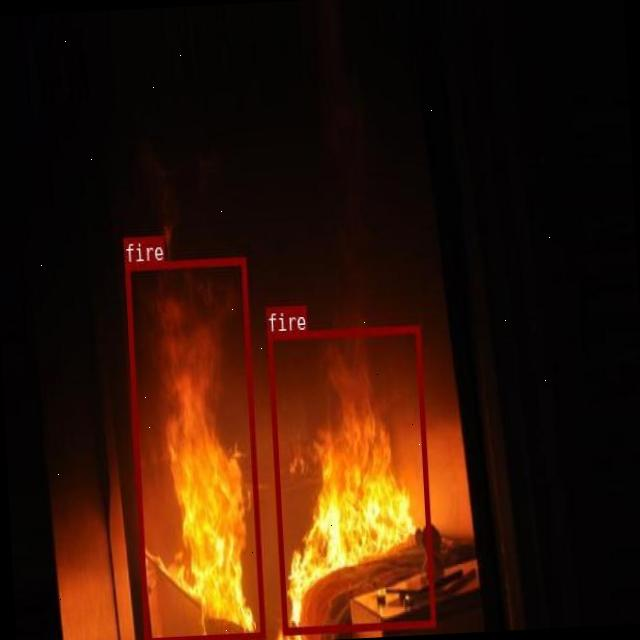fire: (124, 256, 264, 640), (266, 324, 436, 634)
